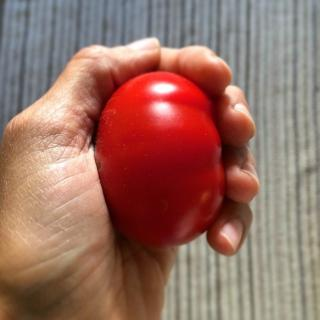tomato: (92, 69, 226, 248)
